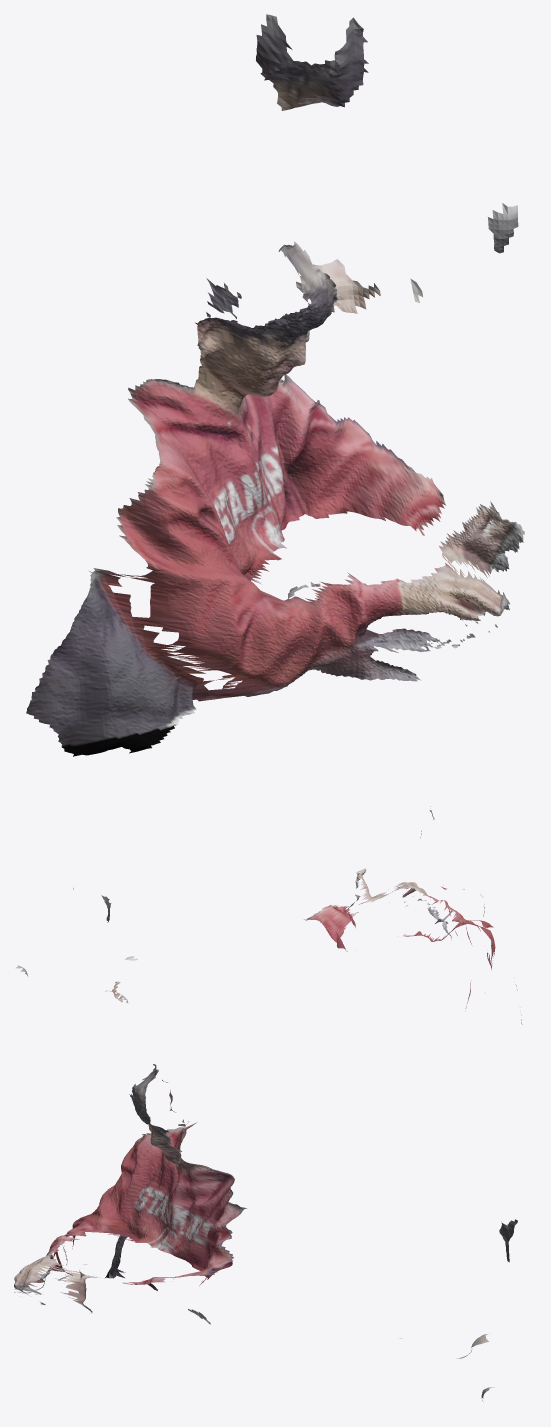
The picture shows the model from 3 angles, top to bottom: view 1: azimuth 30°, elevation 25°; view 2: azimuth 150°, elevation 25°; view 3: azimuth 270°, elevation 25°; orthographic projection. The views are drawn at different scales.
Size of the model in its own units: 1306 by 723 by 1248.
